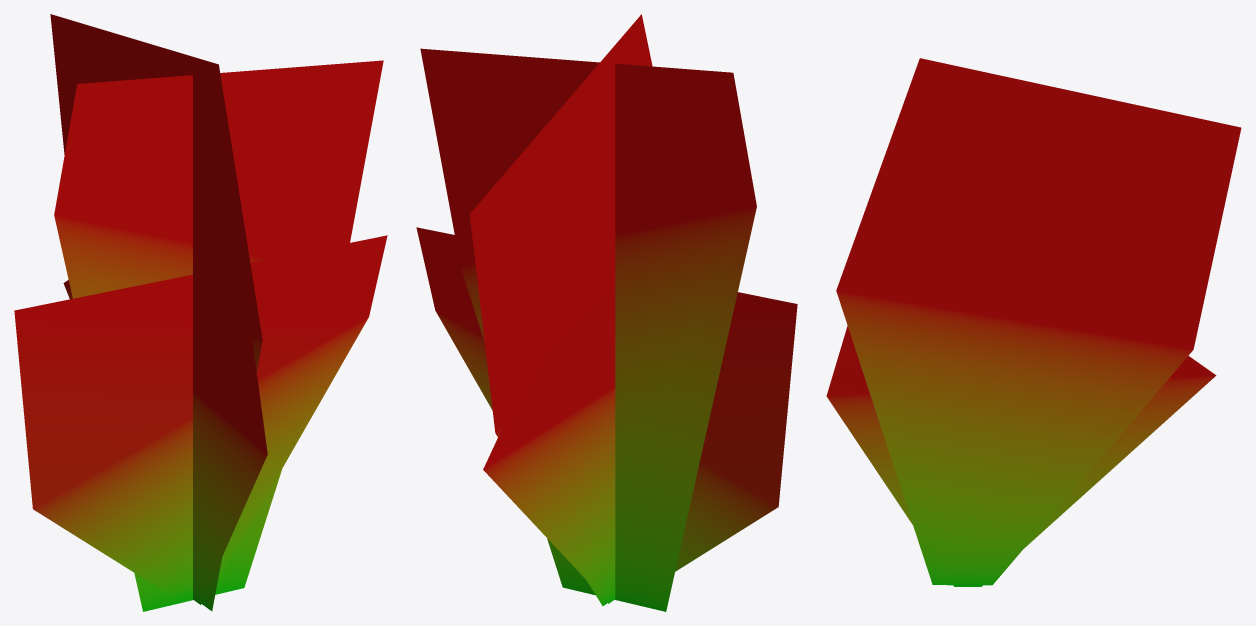
File: Xeric Grass_LOD6_Var1_xjfgdhaqx.fbx
The picture shows the model from 3 angles, left to right: view 1: azimuth 30°, elevation 25°; view 2: azimuth 150°, elevation 25°; view 3: azimuth 270°, elevation 25°; orthographic projection. The views are drawn at different scales.
Visible parts, largest first — view 1: _24p7_Var1_LOD6; view 2: _24p7_Var1_LOD6; view 3: _24p7_Var1_LOD6.
Part boxes in pixels (<box>): _24p7_Var1_LOD6: <box>14,14,387,611</box>; _24p7_Var1_LOD6: <box>416,14,797,611</box>; _24p7_Var1_LOD6: <box>826,58,1241,586</box>.
Bounding box in the file's own units: 67.57 × 96.02 × 68.16.
